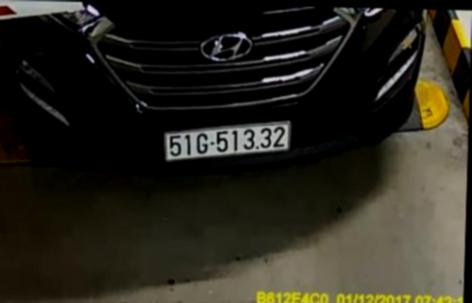License_Plate: (161, 118, 291, 168)
